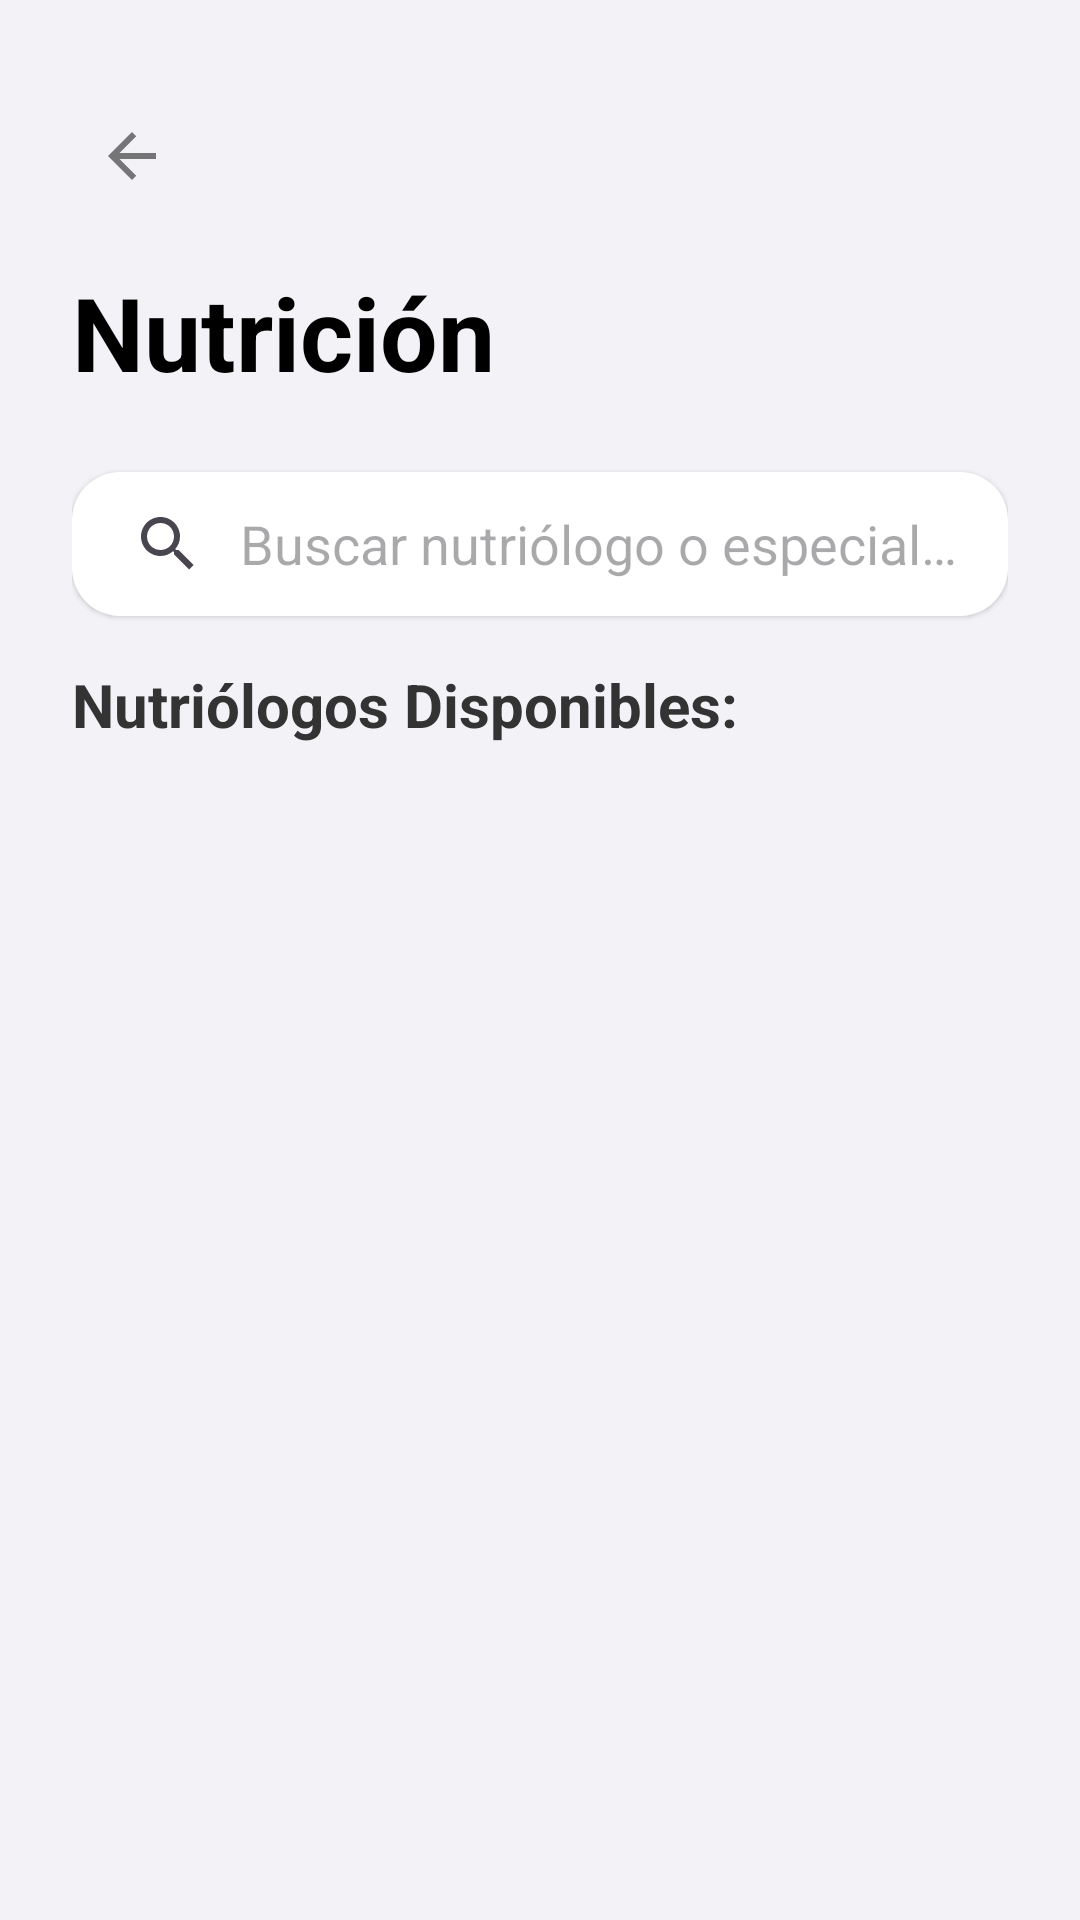

Where to tap for icons on this 1080px×1920px app screen, as (x=x, y=y):
Go back: (x=132, y=156)
